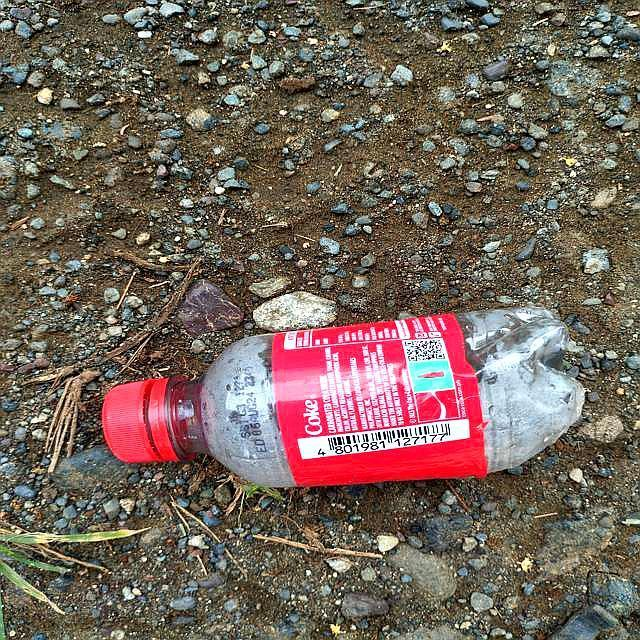Non-biodegradable: (105, 305, 589, 497)
